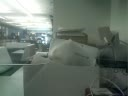window: (2, 1, 120, 94)
